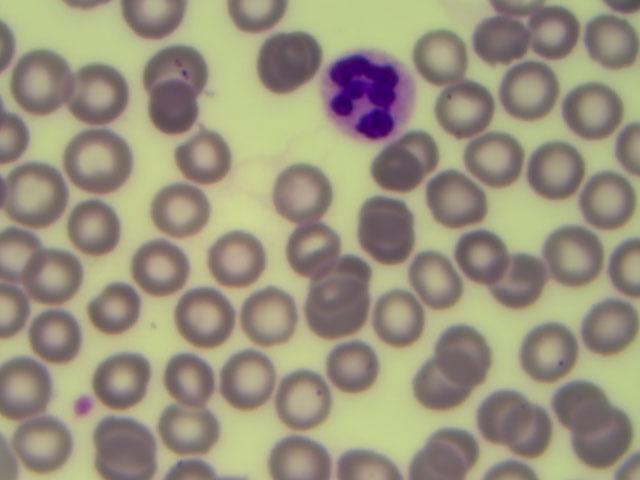Platelets: (65, 386, 98, 419)
RBC: (100, 413, 164, 480), (4, 45, 68, 111), (62, 59, 126, 125), (140, 29, 204, 95), (141, 76, 205, 142), (178, 124, 242, 190), (145, 174, 209, 240), (210, 224, 274, 290), (131, 232, 195, 298), (171, 293, 235, 359), (229, 288, 293, 354), (285, 275, 349, 341), (277, 222, 341, 288), (271, 150, 335, 216), (364, 203, 428, 269), (359, 144, 423, 210), (406, 128, 470, 194), (434, 175, 498, 241), (449, 223, 513, 289), (478, 242, 542, 308), (537, 224, 601, 290), (575, 161, 639, 227), (516, 141, 580, 207), (455, 131, 519, 197), (442, 82, 506, 148), (420, 15, 484, 81), (469, 10, 533, 76), (576, 5, 640, 71), (505, 64, 569, 130), (560, 71, 624, 137), (567, 301, 631, 367), (512, 320, 576, 386), (549, 360, 613, 426), (576, 397, 640, 463), (511, 404, 575, 470), (456, 378, 520, 444), (439, 314, 503, 380), (405, 350, 469, 416), (325, 347, 389, 413), (380, 278, 444, 344), (398, 251, 462, 317), (271, 363, 335, 429), (257, 413, 321, 479), (229, 348, 293, 414), (160, 347, 224, 413), (163, 386, 227, 452), (98, 348, 162, 414), (89, 262, 153, 328), (67, 191, 131, 257), (70, 130, 134, 196), (1, 157, 65, 223), (27, 245, 91, 311), (23, 300, 87, 366), (255, 24, 319, 90), (497, 1, 561, 66), (15, 409, 74, 477), (1, 354, 59, 422)
WBC: (330, 48, 419, 145)
